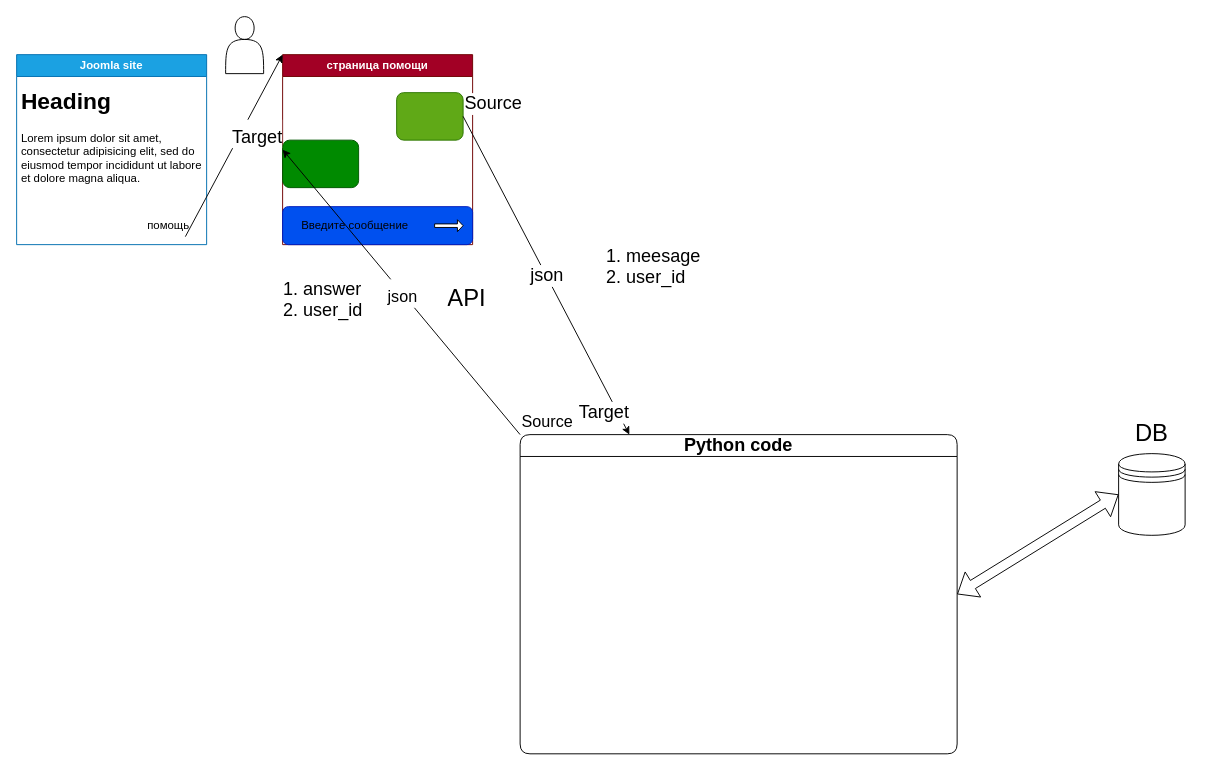
Some shapes in this 1207 by 770 pixel diagram are drawn without their labels. Each missing label, with the centre of its shape:
"Здраствуйте, можете мне помочь? ..." goes at (x=429, y=116).
"Здраствуйте, чем я вам могу помочь?" goes at (x=320, y=163).
